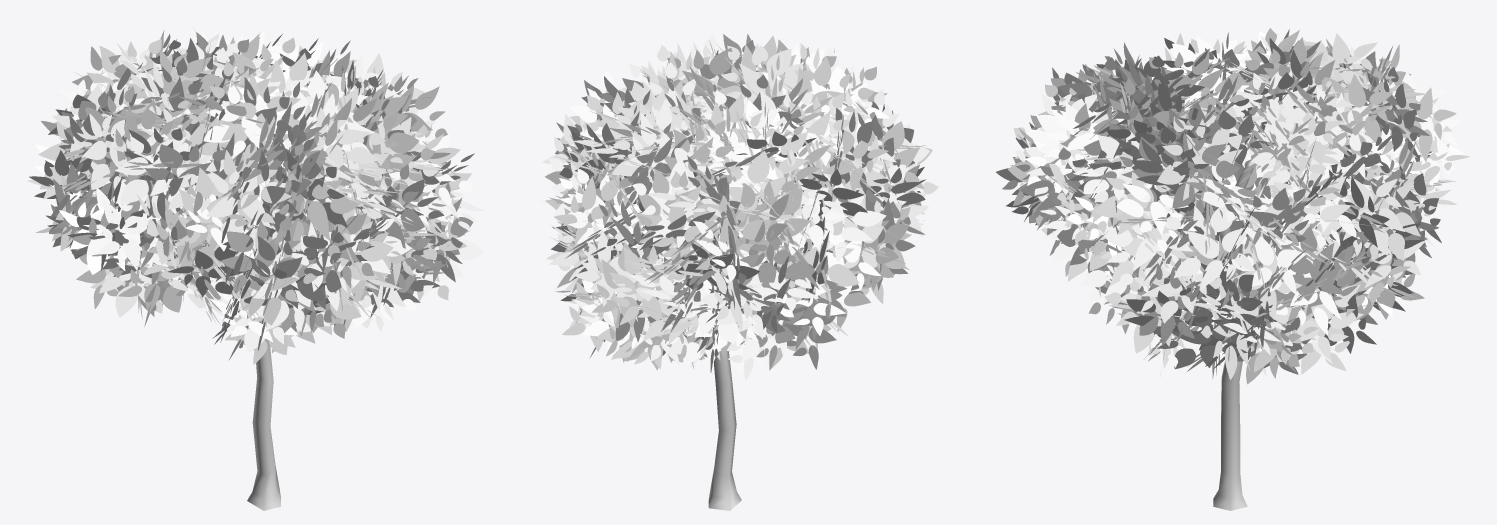
The model's file is abedul.fbx.
The picture shows the model from 3 angles, left to right: view 1: azimuth 30°, elevation 25°; view 2: azimuth 150°, elevation 25°; view 3: azimuth 270°, elevation 25°; orthographic projection. The views are drawn at different scales.
Visible parts, largest first — view 1: Textura hojas.400, Cylinder004; view 2: Textura hojas.400, Cylinder004; view 3: Textura hojas.400, Cylinder004.
Boxes of the visible parts, x1,y1,x2,y2 form: Textura hojas.400: [27, 28, 484, 364]; Cylinder004: [247, 175, 283, 510]; Textura hojas.400: [539, 33, 938, 380]; Cylinder004: [685, 171, 741, 510]; Textura hojas.400: [996, 28, 1469, 384]; Cylinder004: [1213, 160, 1267, 510].
Bounding box in the file's own units: 1222 × 1336 × 1306.
